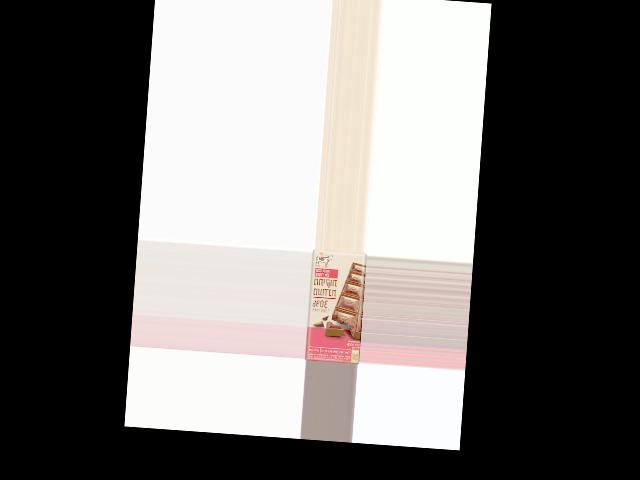chocolate: (304, 249, 366, 363)
